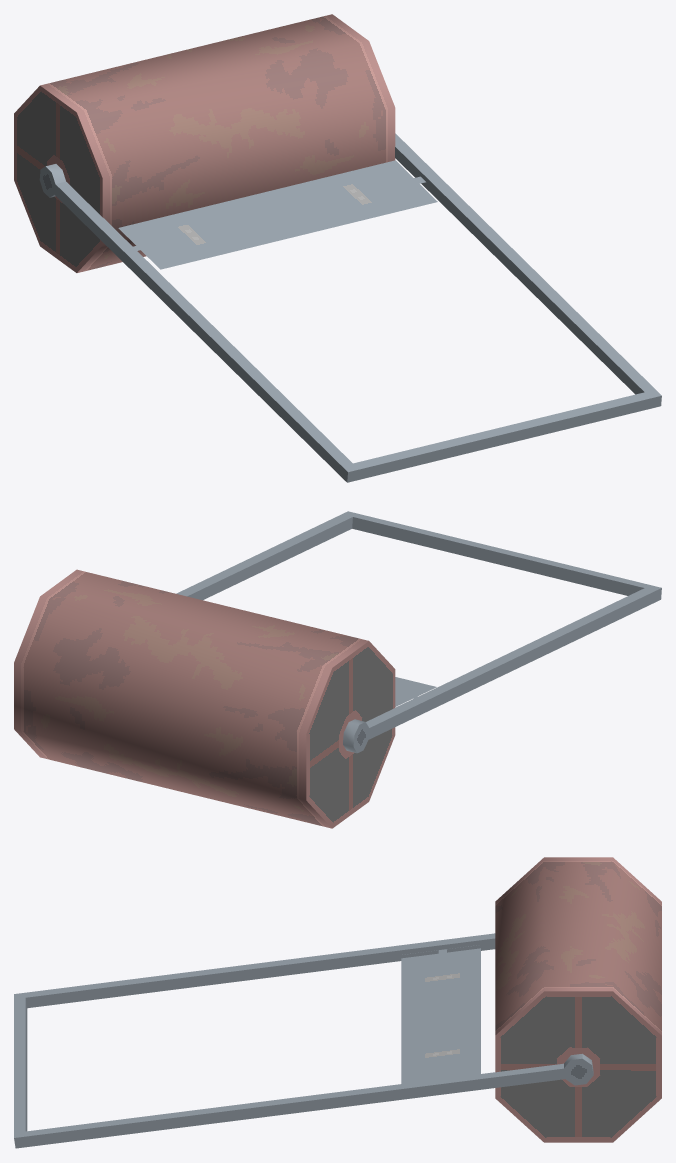
Rendered from 0442_Lawn_Roller.glb.
3 views of the same model, one above another, from view 1: azimuth 30°, elevation 25°; view 2: azimuth 150°, elevation 25°; view 3: azimuth 270°, elevation 25° (orthographic). The views are drawn at different scales.
Parts seen in each view (by area): view 1: part_0; view 2: part_0; view 3: part_0.
Boxes of the visible parts, bbox=[...] form: part_0: bbox=[14, 14, 661, 482]; part_0: bbox=[14, 511, 661, 828]; part_0: bbox=[14, 857, 661, 1148].
Bounding box in the file's own units: 0.9672 × 0.4769 × 1.84.
Materials: 1 (1 with a texture image).
